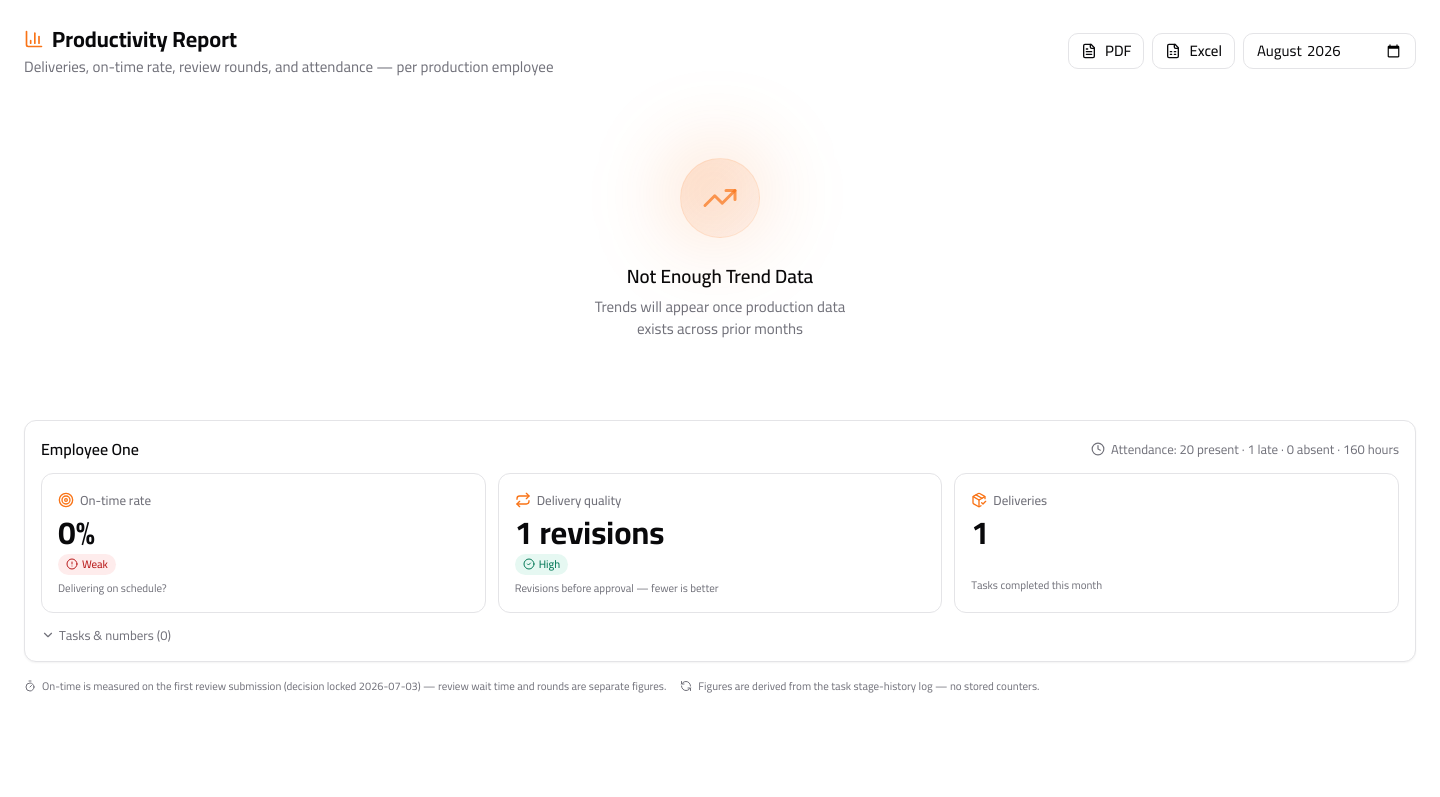
it: admin productivity audit UI — reading a past month › reconciles a past month exactly once it is selected
Replace the text in the field named "Select month" with "2026-07" at (1330, 51), box x1=1243 y1=33 x2=1416 y2=69
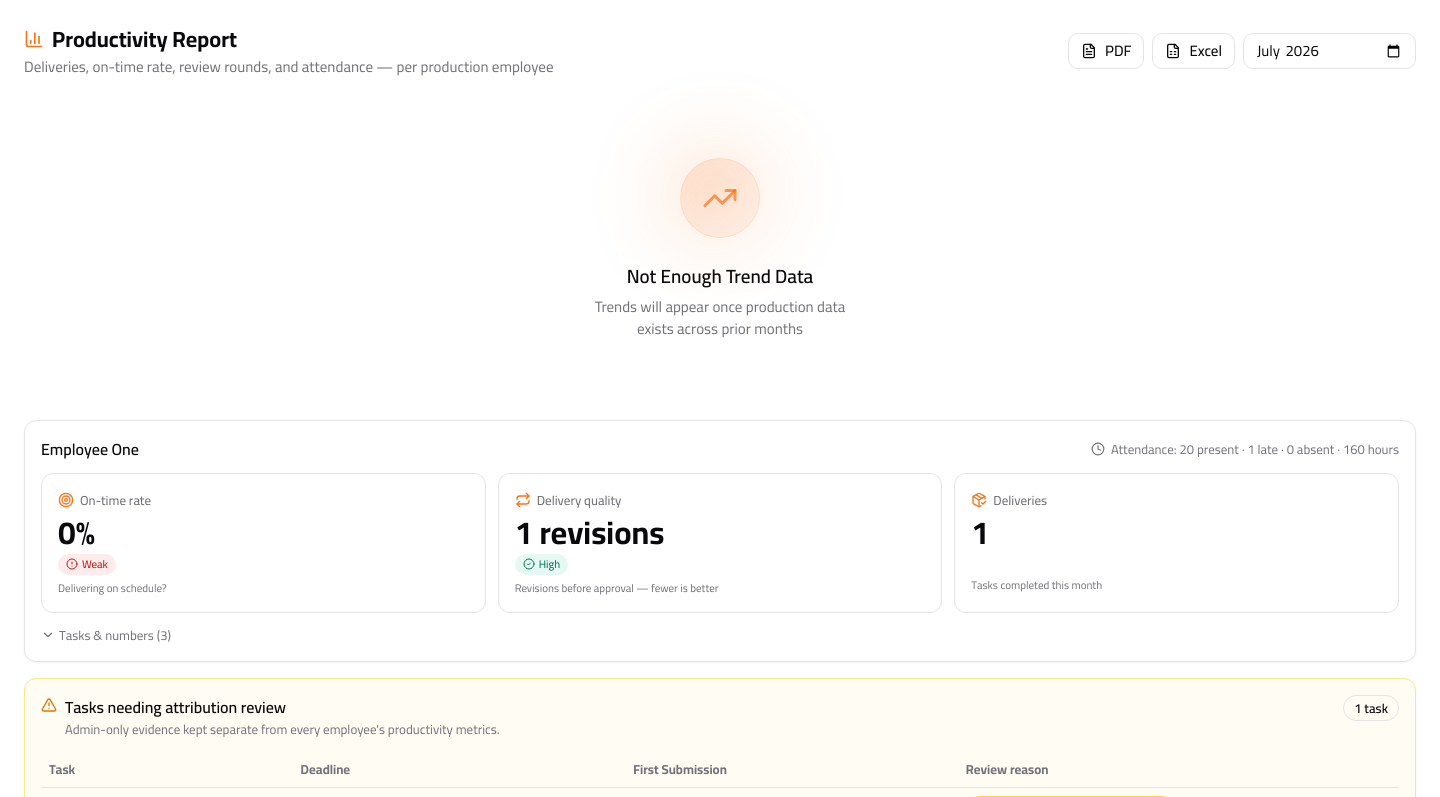
Click the button "Tasks & numbers (3)" at (106, 635), box x1=41 y1=625 x2=171 y2=645
(page scrolled)
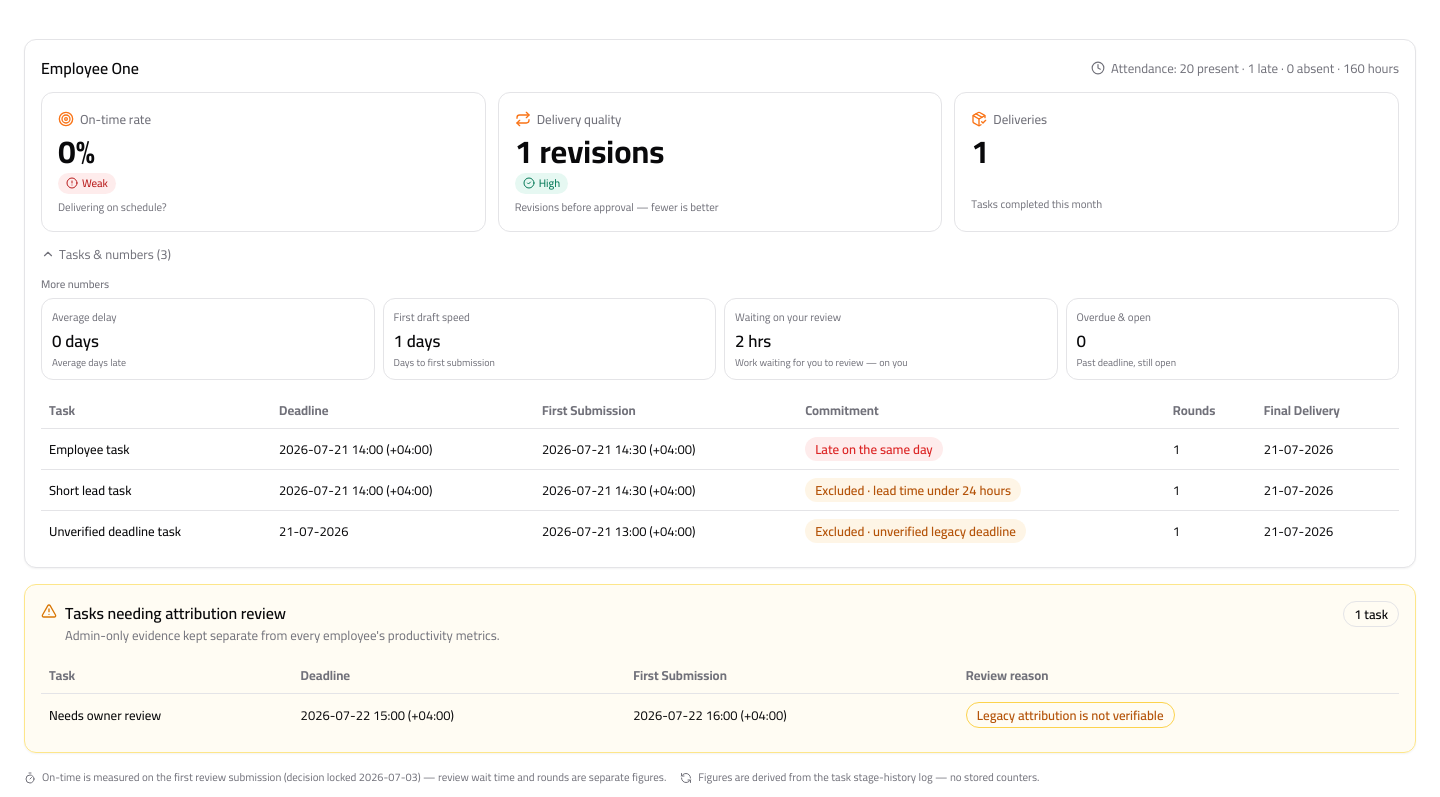
Expected: the heading "Tasks needing attribution review" is shown, x1=65 y1=598 x2=286 y2=628
Expected: the text "Excluded · lead time under 24 hours" is shown, x1=805 y1=478 x2=1021 y2=502
